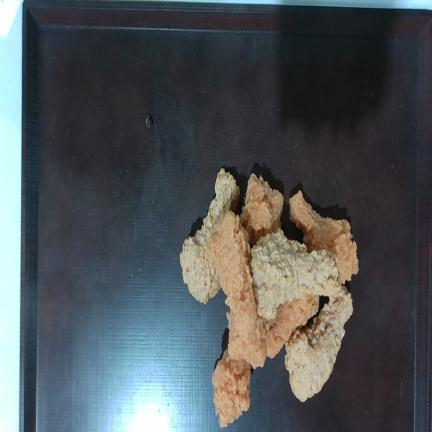chicken: (251, 229, 341, 319), (180, 168, 239, 304), (285, 286, 352, 401), (290, 191, 358, 284), (208, 211, 257, 332), (212, 349, 251, 427), (241, 173, 283, 244)
